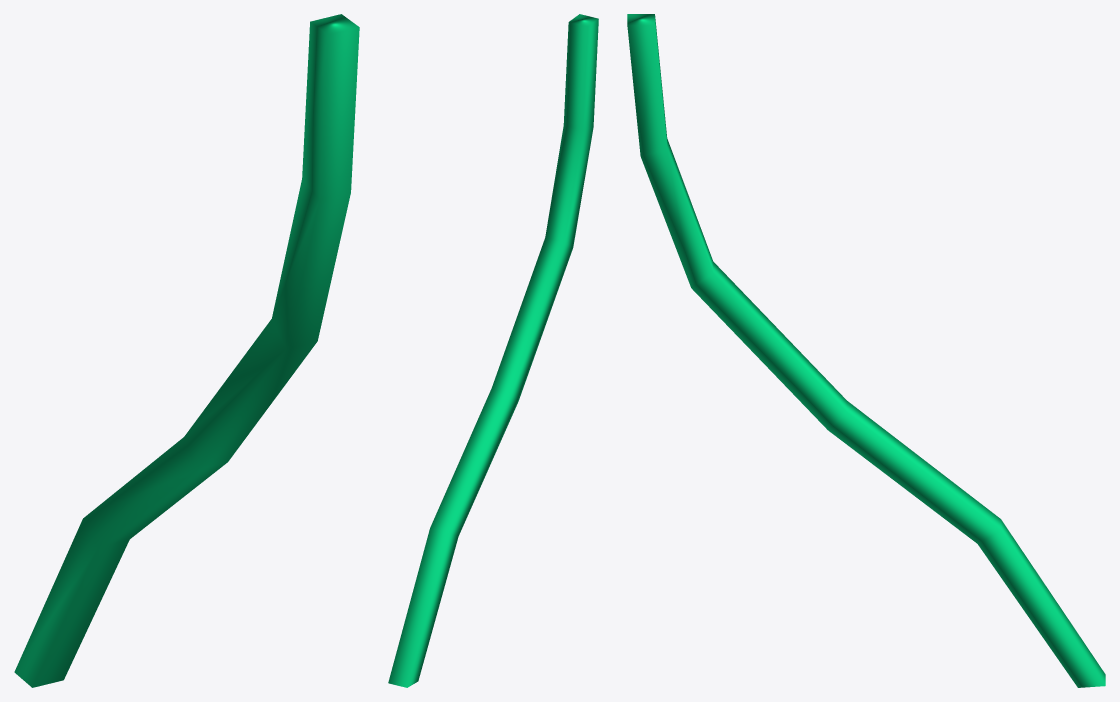
File: V_Flower_Stalk_03.fbx
The picture shows the model from 3 angles, left to right: view 1: azimuth 30°, elevation 25°; view 2: azimuth 150°, elevation 25°; view 3: azimuth 270°, elevation 25°; orthographic projection. The views are drawn at different scales.
Visible parts, largest first — view 1: V_Flower_Stalk_03; view 2: V_Flower_Stalk_03; view 3: V_Flower_Stalk_03.
Part boxes in pixels (x1,y1,x2,y2): V_Flower_Stalk_03: (14, 14, 359, 687); V_Flower_Stalk_03: (388, 14, 598, 687); V_Flower_Stalk_03: (627, 14, 1105, 687).
Bounding box in the file's own units: 1.83 × 48.42 × 31.69.
